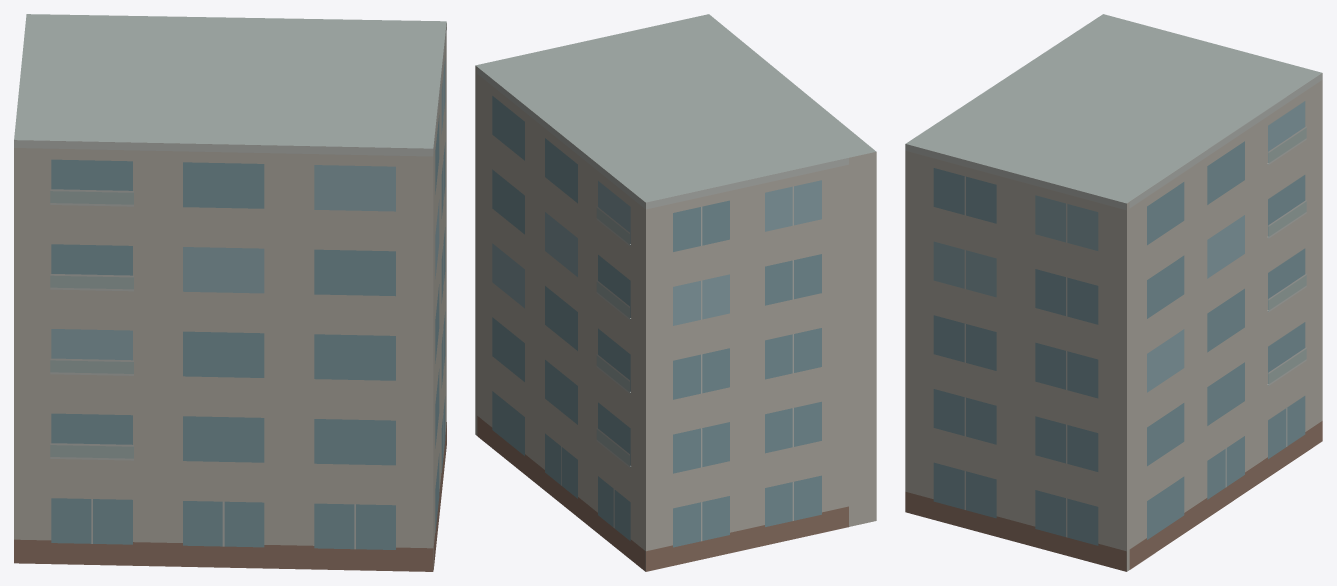
File: survey-upis-32885982.glb
3 renders of one model, left to right at view 1: azimuth 30°, elevation 25°; view 2: azimuth 150°, elevation 25°; view 3: azimuth 270°, elevation 25°, orthographic. The views are drawn at different scales.
Parts seen in each view (by area): view 1: survey-upis-32885982.tmp; view 2: survey-upis-32885982.tmp; view 3: survey-upis-32885982.tmp.
Part boxes in pixels (bbox=[...]): survey-upis-32885982.tmp: bbox=[14, 14, 446, 571]; survey-upis-32885982.tmp: bbox=[475, 14, 876, 571]; survey-upis-32885982.tmp: bbox=[905, 14, 1322, 571].
Bounding box in the file's own units: 14.52 × 13.15 × 13.51.
